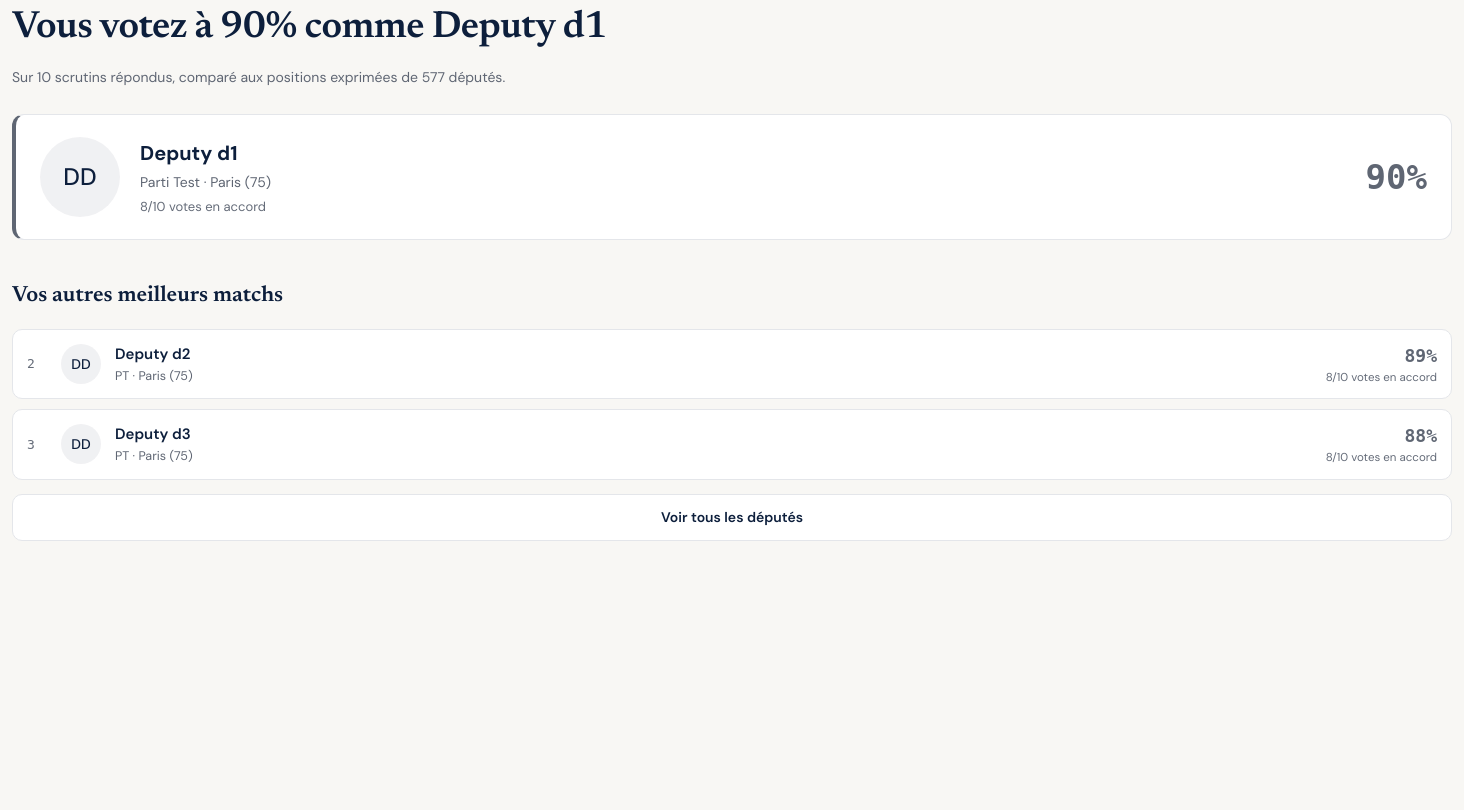
Scenario: QuizResultSections - top matches expand (MON-191) › reveals the remaining matches after clicking the expand button
Click the button "Voir tous les députés": (732, 517) [12,494,1452,540]
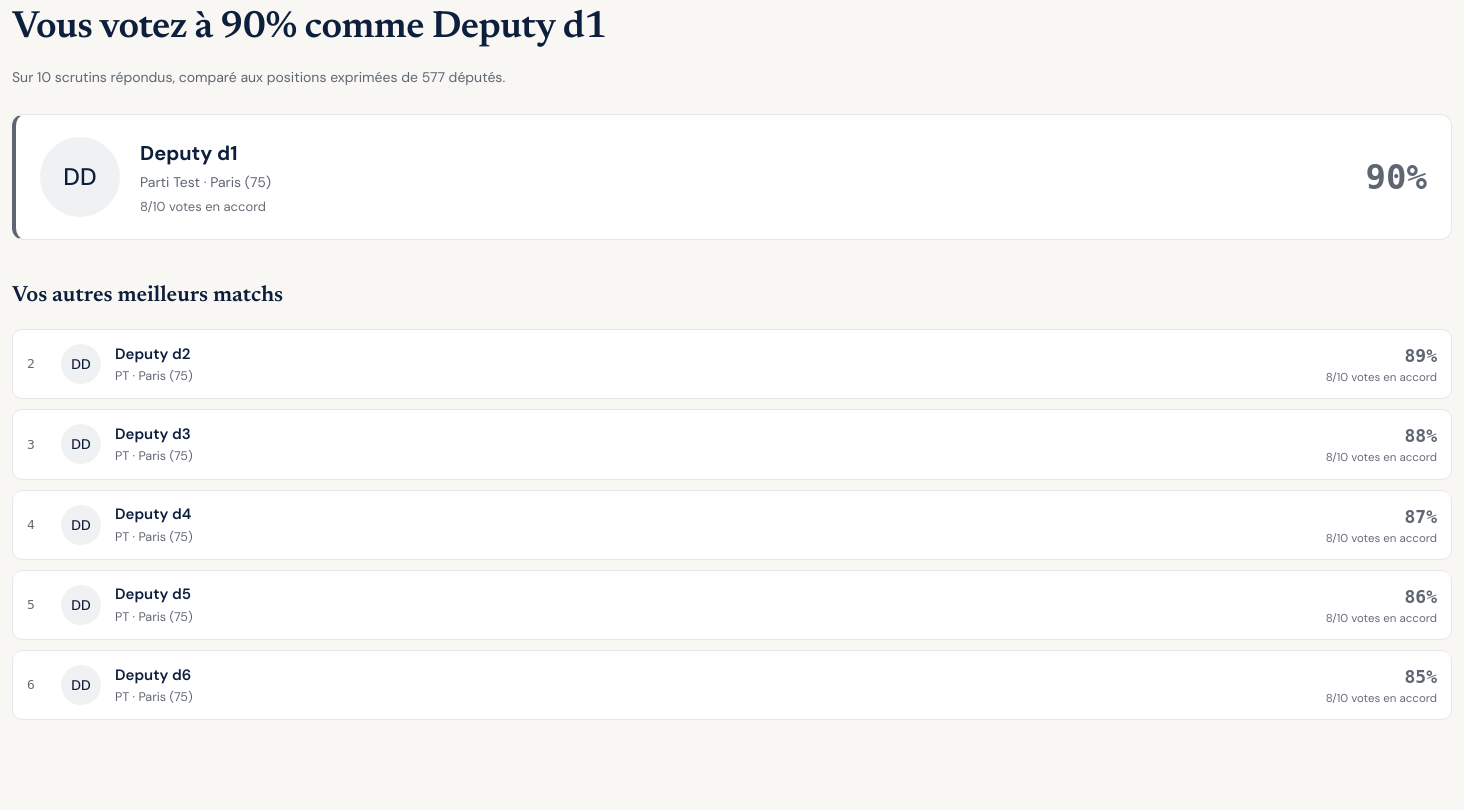
Now the text "Deputy d4" is shown, box [115,504,191,524]
Now the text "Deputy d5" is shown, box [115,584,191,604]
Now the text "Deputy d6" is shown, box [115,664,191,684]
